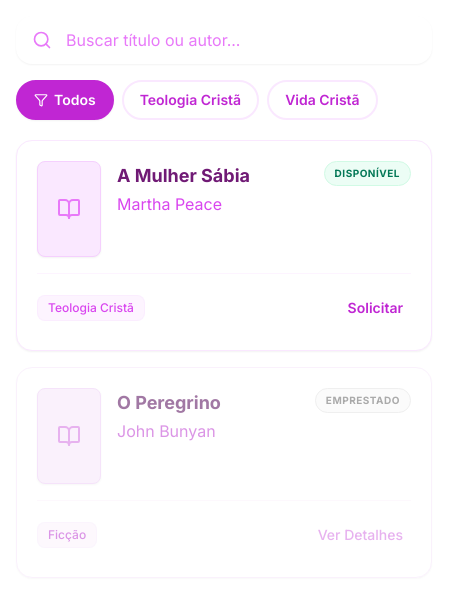
Test: BookList Component › renders empty state if no books match
Type "Livro Inexistente" into the field with placeholder "Buscar título ou autor..." at point(224, 40), box [16,16,432,64]
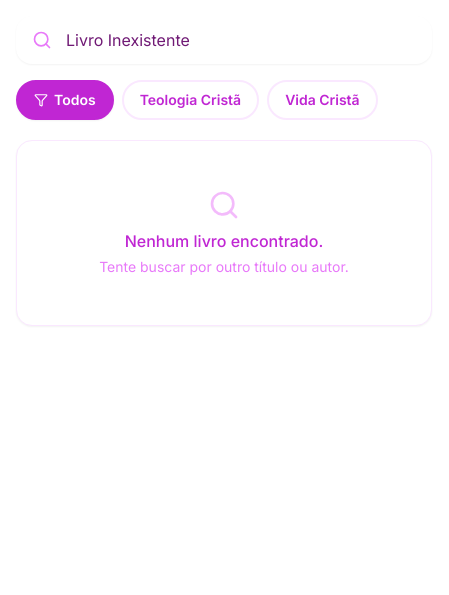
Check: the text "Nenhum livro encontrado." is shown, box [125,229,323,253]
Check: the heading "A Mulher Sábia" is gone
